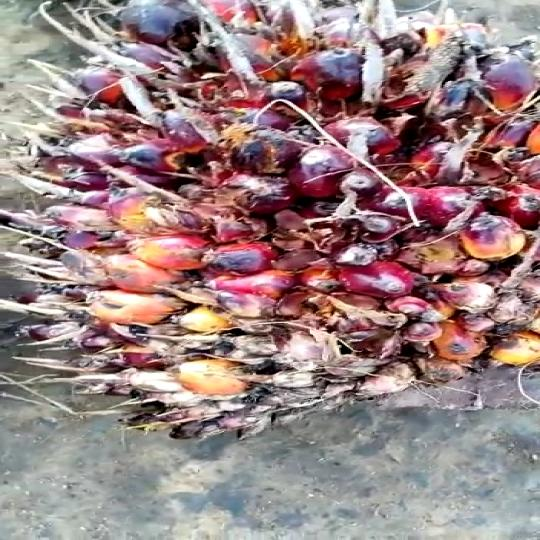masak: (3, 0, 540, 445)
